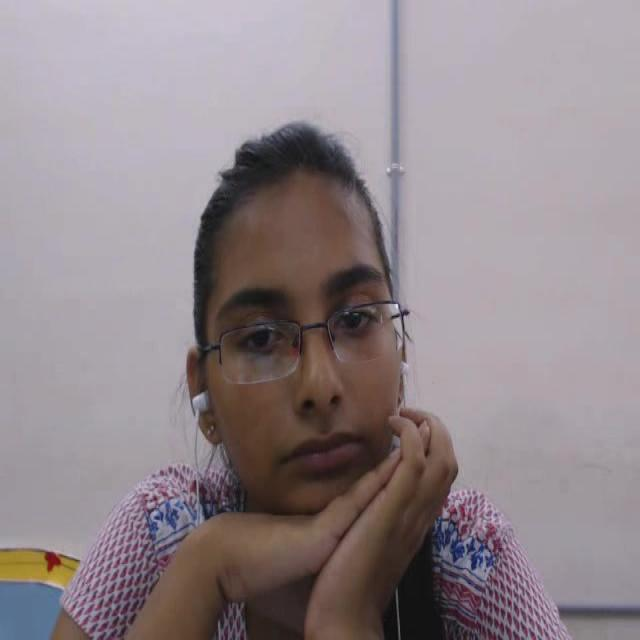Bored: (156, 106, 440, 592)
